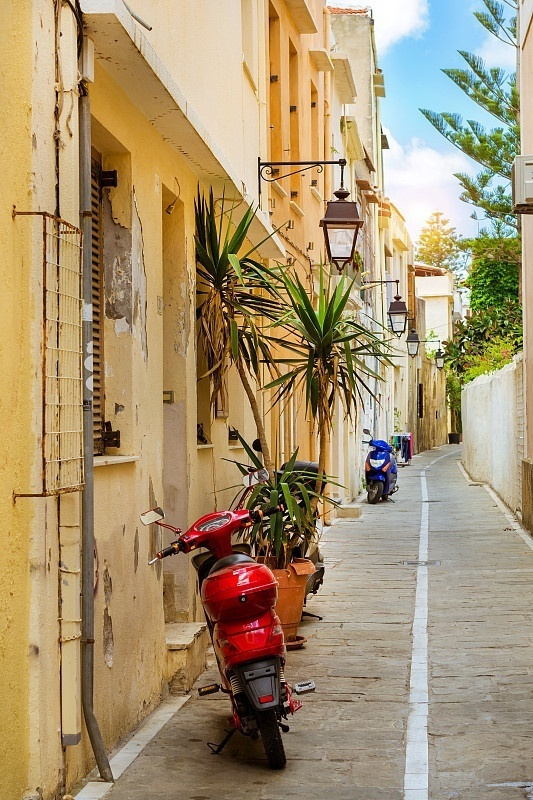non-vehicle: (147, 479, 335, 767), (362, 430, 400, 505)
